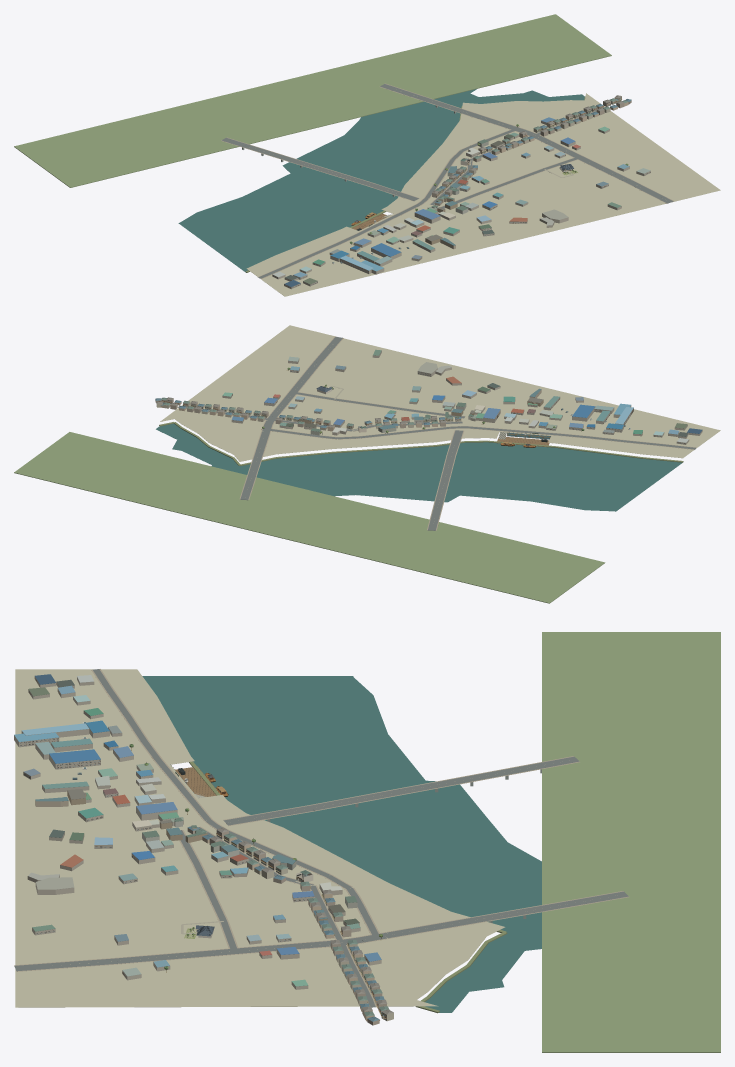
File: yeongsanpo.glb
The picture shows the model from 3 angles, top to bottom: view 1: azimuth 30°, elevation 25°; view 2: azimuth 150°, elevation 25°; view 3: azimuth 270°, elevation 25°; orthographic projection. The views are drawn at different scales.
Visible parts, largest first — view 1: north_bank_background, ground_floor_south_bank_1, mapped_river_water, ground_floor_south_bank_2, ground_floor_south_bank_0, ground_floor_south_bank_3, road_way/320473144, road_way/303738250.002; view 2: north_bank_background, mapped_river_water, ground_floor_south_bank_1, ground_floor_south_bank_2, ground_floor_south_bank_0, ground_floor_south_bank_3, road_way/320473144; view 3: north_bank_background, ground_floor_south_bank_1, mapped_river_water, ground_floor_south_bank_2, ground_floor_south_bank_0, ground_floor_south_bank_3, road_way/320473144, road_way/303738250.002.
Boxes of the visible parts, x1,y1,x2,y2 form: north_bank_background: [14, 14, 611, 187]; ground_floor_south_bank_1: [381, 93, 720, 247]; mapped_river_water: [178, 89, 584, 272]; ground_floor_south_bank_2: [261, 214, 485, 296]; ground_floor_south_bank_0: [409, 100, 571, 179]; ground_floor_south_bank_3: [246, 226, 358, 278]; road_way/320473144: [380, 84, 511, 128]; road_way/303738250.002: [222, 137, 322, 170]; north_bank_background: [14, 432, 605, 603]; mapped_river_water: [156, 423, 682, 511]; ground_floor_south_bank_1: [160, 325, 521, 443]; ground_floor_south_bank_2: [499, 382, 720, 447]; ground_floor_south_bank_0: [181, 424, 422, 461]; ground_floor_south_bank_3: [548, 436, 696, 458]; road_way/320473144: [240, 432, 269, 499]; north_bank_background: [542, 632, 720, 1052]; ground_floor_south_bank_1: [15, 795, 438, 1007]; mapped_river_water: [142, 676, 541, 1012]; ground_floor_south_bank_2: [15, 669, 197, 825]; ground_floor_south_bank_0: [297, 835, 505, 992]; ground_floor_south_bank_3: [91, 669, 194, 764]; road_way/320473144: [387, 891, 628, 937]; road_way/303738250.002: [399, 756, 579, 793].
Bounding box in the file's own units: 1000 × 16.87 × 711.
